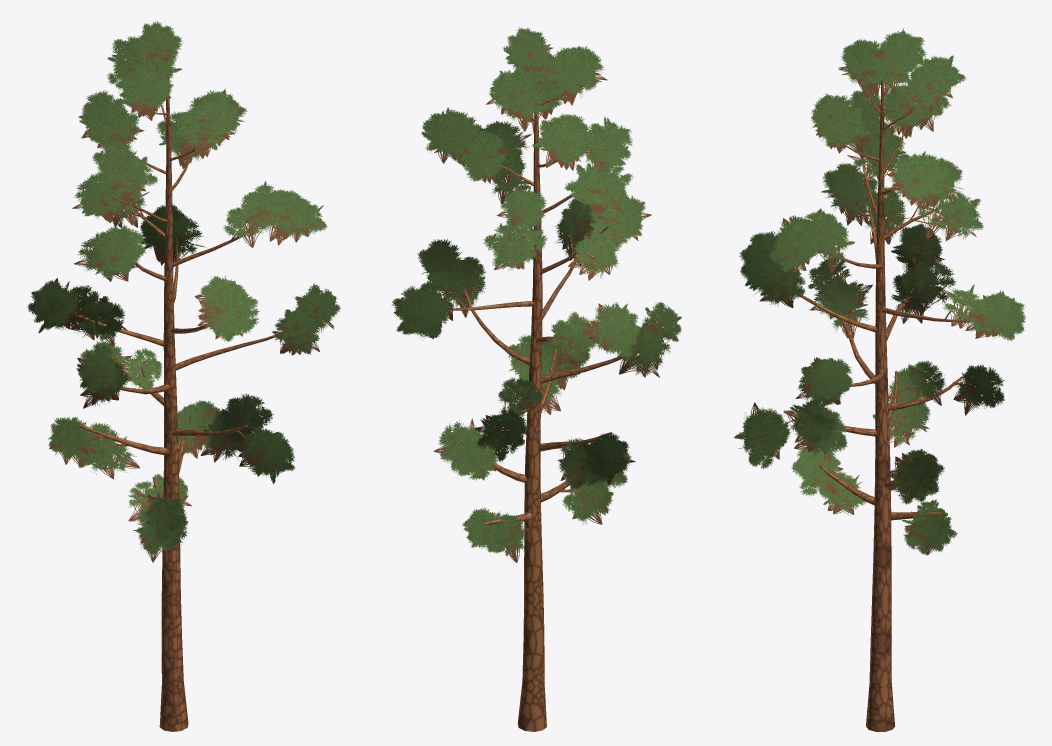
Rendered from veg_ponderosa_pine_a.fbx.
3 renders of one model, left to right at view 1: azimuth 30°, elevation 25°; view 2: azimuth 150°, elevation 25°; view 3: azimuth 270°, elevation 25°, orthographic. The views are drawn at different scales.
Parts seen in each view (by area): view 1: veg_ponderosa_pine_a_LOD0; view 2: veg_ponderosa_pine_a_LOD0; view 3: veg_ponderosa_pine_a_LOD0.
Part boxes in pixels (left/top/right/bottom): veg_ponderosa_pine_a_LOD0: left=27, top=21, right=340, bottom=731; veg_ponderosa_pine_a_LOD0: left=392, top=27, right=681, bottom=731; veg_ponderosa_pine_a_LOD0: left=733, top=28, right=1026, bottom=731.
Size of what is drawn, in the model's own units: 13.84 by 32.91 by 13.52.
2 materials, 2 textured.
